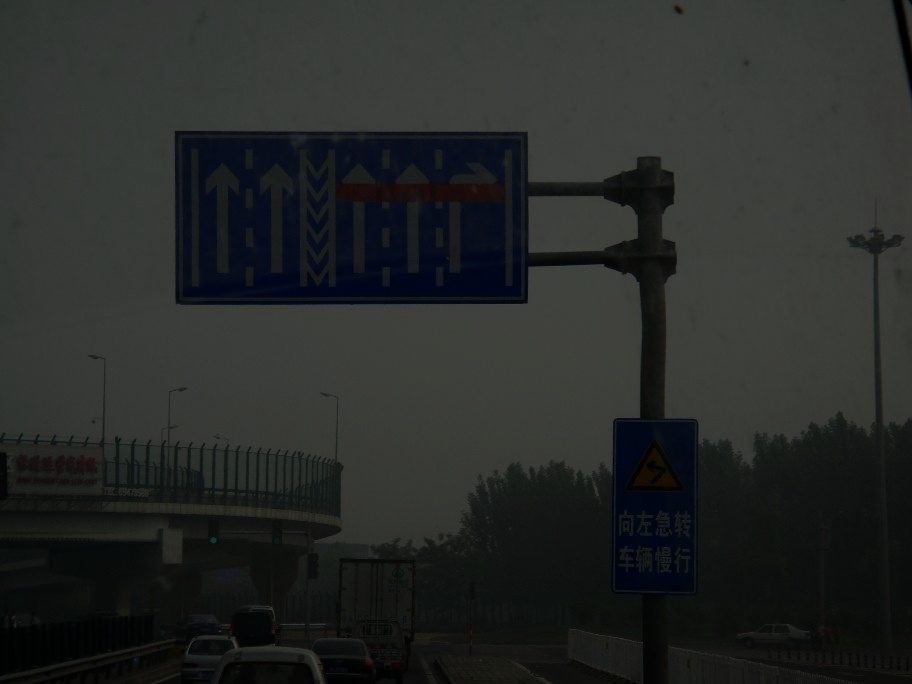Warning Signs: (624, 436, 686, 495)
